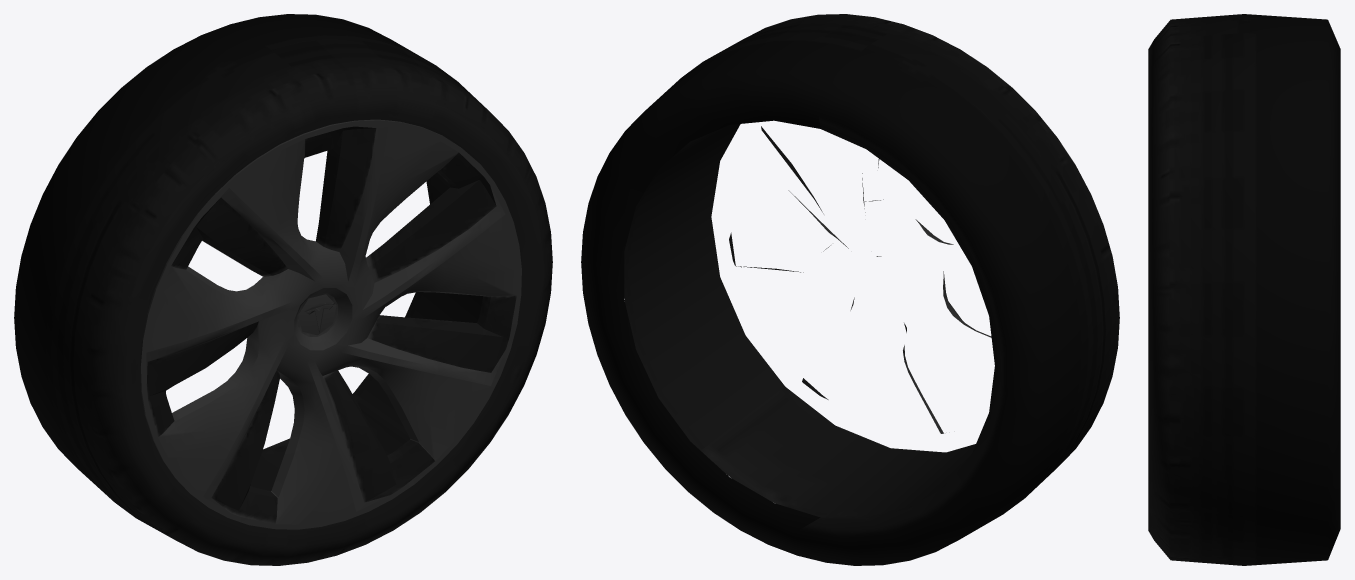
File: wheel-gemini.glb
3 views of the same model, side by side, from view 1: azimuth 30°, elevation 25°; view 2: azimuth 150°, elevation 25°; view 3: azimuth 270°, elevation 25° (orthographic).
Parts seen in each view (by area): view 1: Wheel_Gemini; view 2: Wheel_Gemini; view 3: Wheel_Gemini.
Boxes of the visible parts, left/top/right/bottom form: Wheel_Gemini: left=14, top=14, right=552, bottom=565; Wheel_Gemini: left=581, top=14, right=1119, bottom=565; Wheel_Gemini: left=1148, top=14, right=1340, bottom=565.
Bounding box in the file's own units: 0.6765 × 0.6752 × 0.236.
2 materials, 2 textured.
